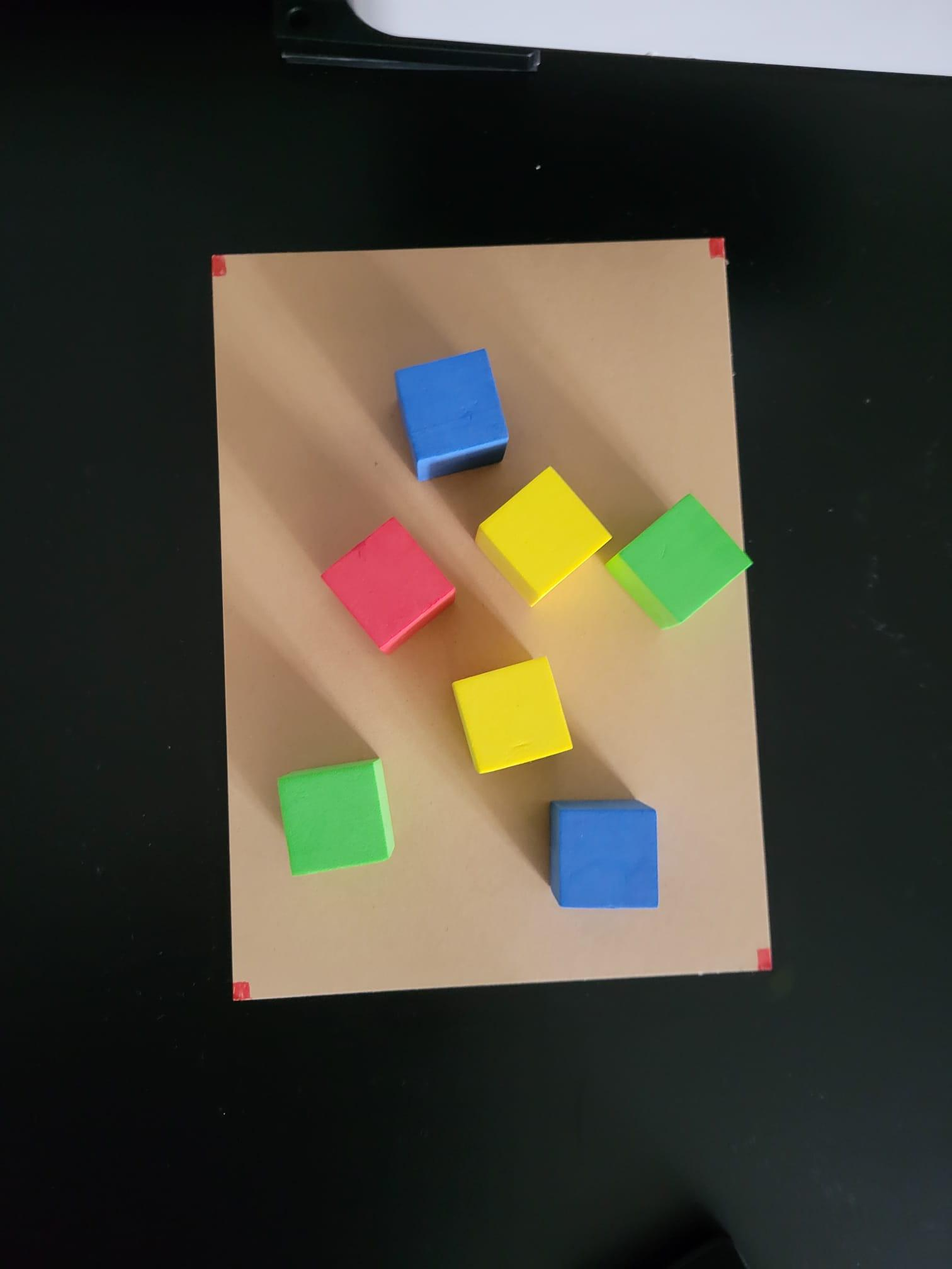cube: (475, 467, 611, 607), (609, 491, 745, 629), (318, 515, 453, 653), (450, 651, 575, 776), (397, 349, 510, 483), (280, 757, 395, 880), (552, 795, 663, 913)
